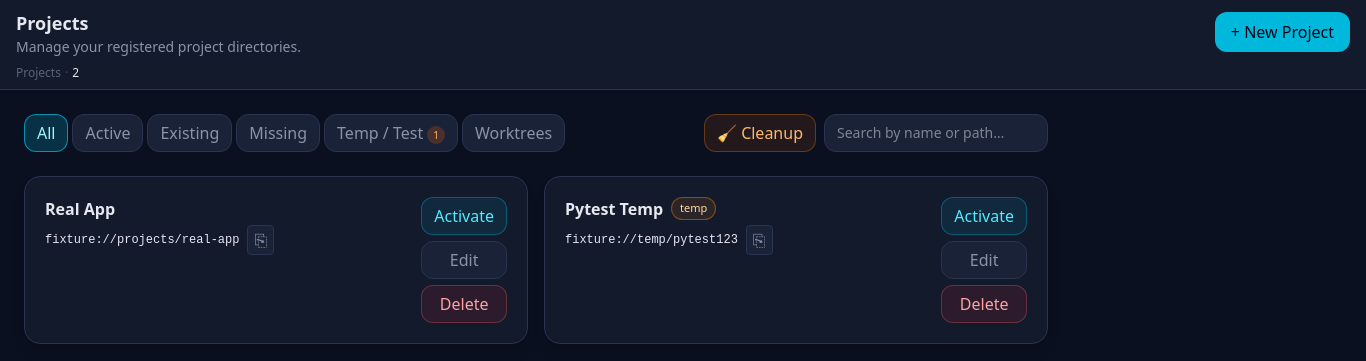
Scenario: ProjectsPage view filters › restores all projects after clearing filters
Step 1. Click the tab "Active" → [108, 132], box x1=72 y1=114 x2=144 y2=152
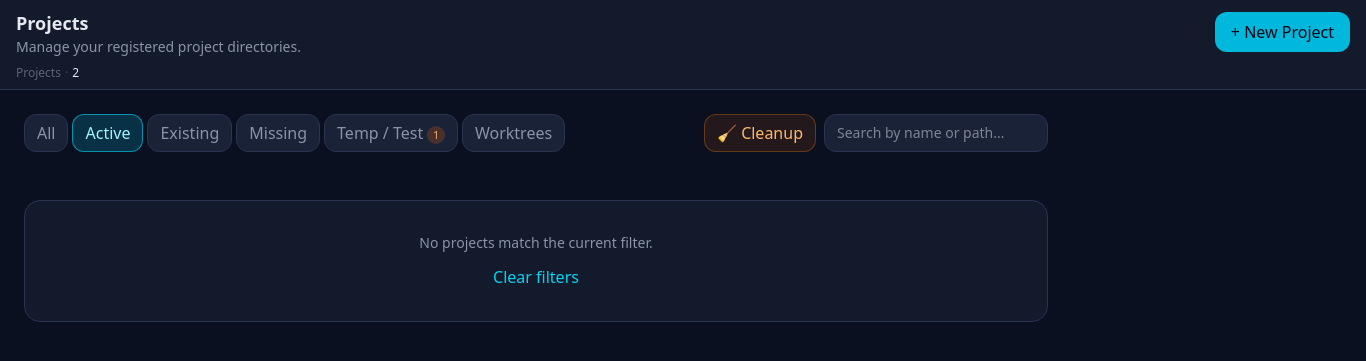
Expected: the text "No projects match the current filter." is shown, x1=419 y1=232 x2=653 y2=252
Step 2. Click the button "Clear filters" → [536, 276], box x1=493 y1=264 x2=579 y2=288
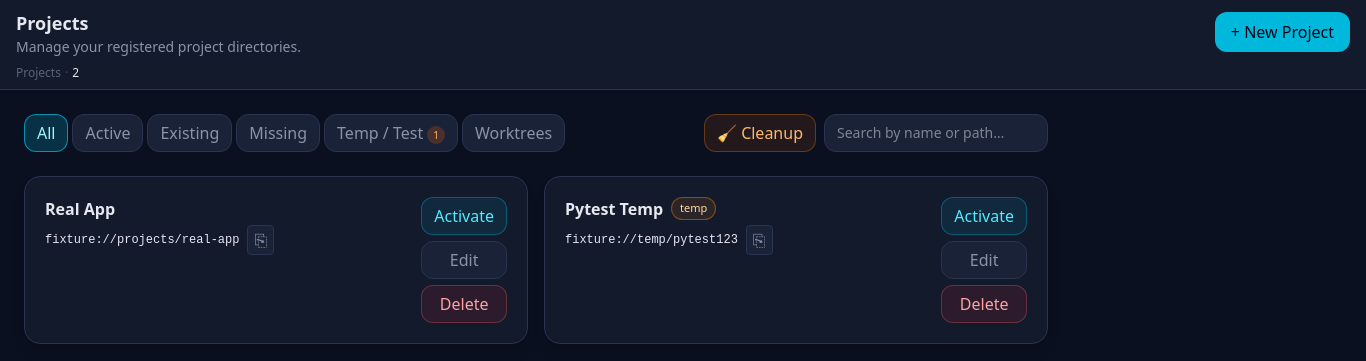
Expected: the heading "Real App" is shown, x1=45 y1=196 x2=115 y2=220
Expected: the heading "Pytest Temp" is shown, x1=565 y1=196 x2=663 y2=220
